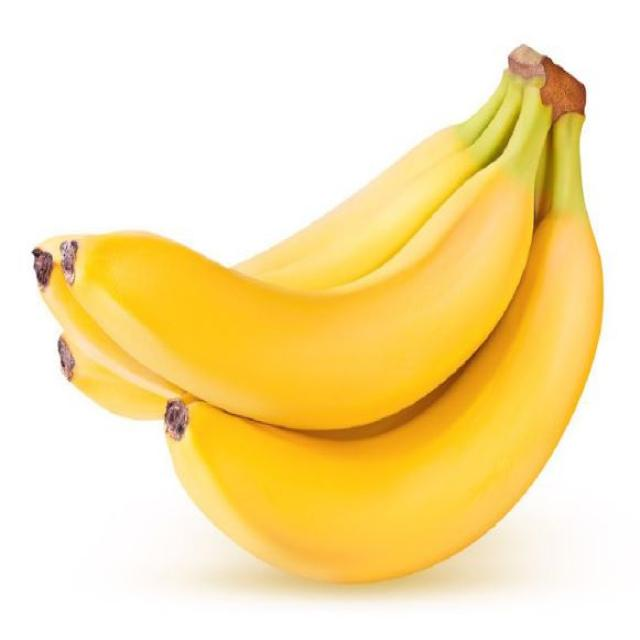chuoi: (34, 68, 603, 580)
